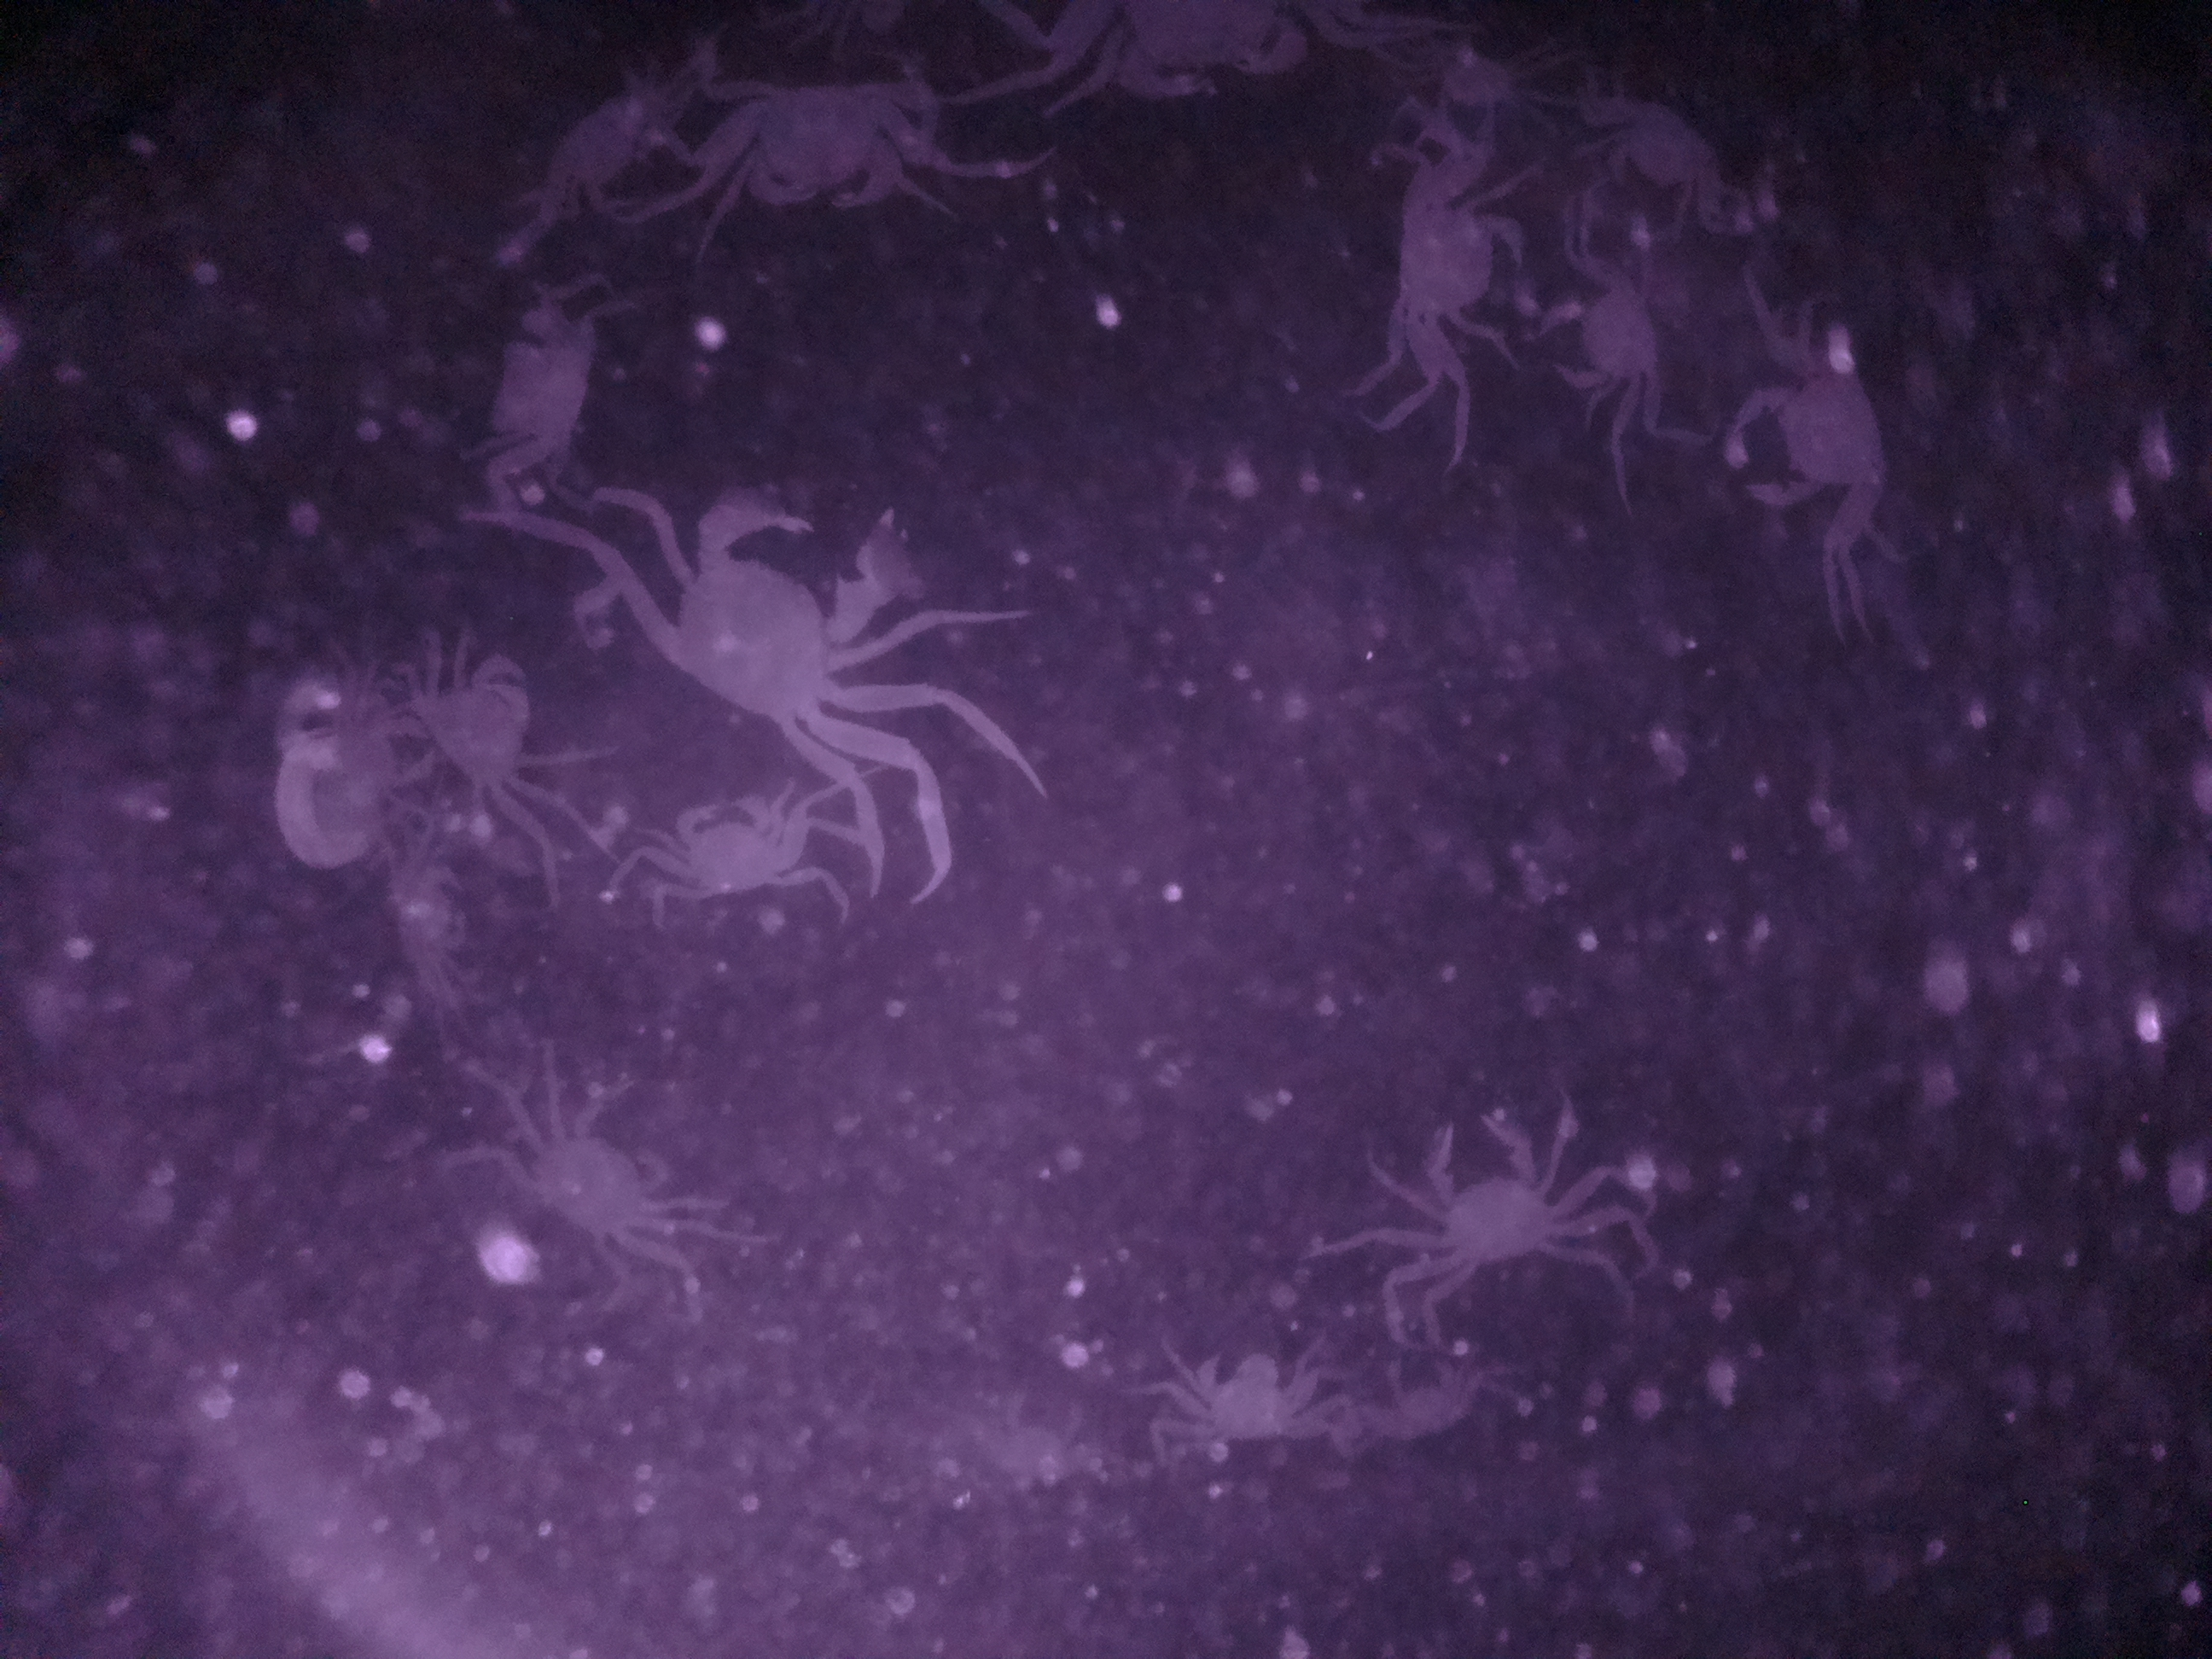Crab: (646, 486, 921, 737), (1717, 324, 1912, 551), (697, 47, 935, 225), (1392, 1093, 1590, 1300), (1360, 152, 1531, 354), (381, 650, 545, 819), (528, 1079, 681, 1256), (1179, 1331, 1346, 1474), (1545, 246, 1686, 410), (648, 788, 819, 922)
